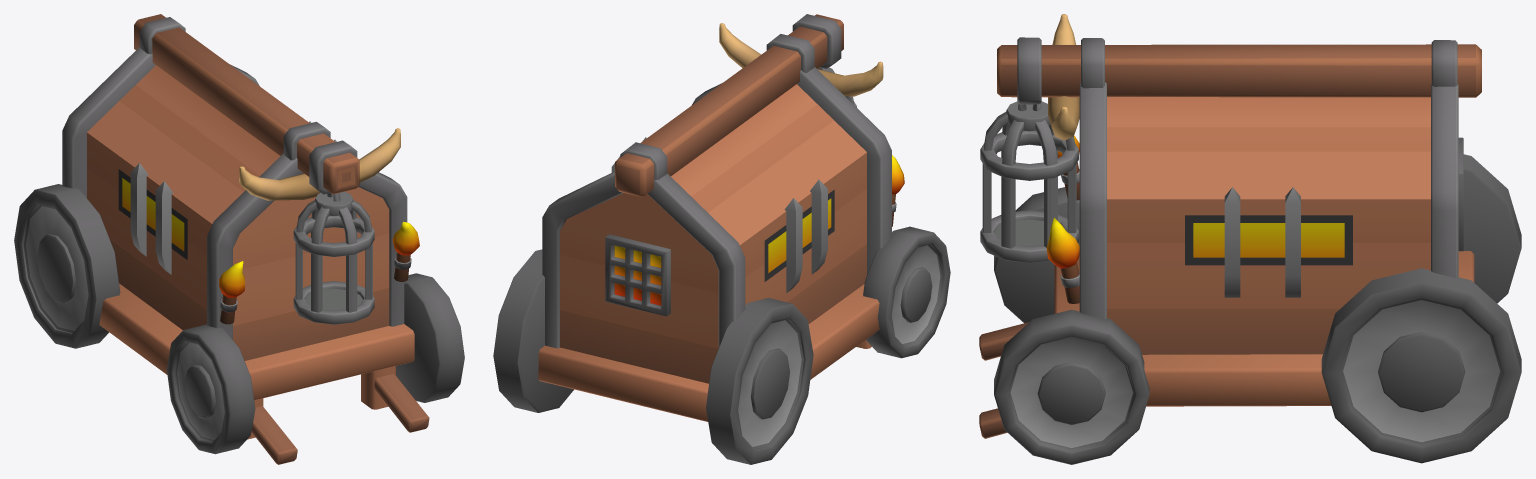
File: WheelBarrow_1.fbx
The picture shows the model from 3 angles, left to right: view 1: azimuth 30°, elevation 25°; view 2: azimuth 150°, elevation 25°; view 3: azimuth 270°, elevation 25°; orthographic projection. The views are drawn at different scales.
Visible parts, largest first — view 1: WheelBarrow_1; view 2: WheelBarrow_1; view 3: WheelBarrow_1.
Part boxes in pixels (x1,y1,x2,y2): WheelBarrow_1: [14, 14, 464, 464]; WheelBarrow_1: [493, 14, 950, 464]; WheelBarrow_1: [979, 14, 1521, 464].
Size of the model in its own units: 183 by 214 by 300.
